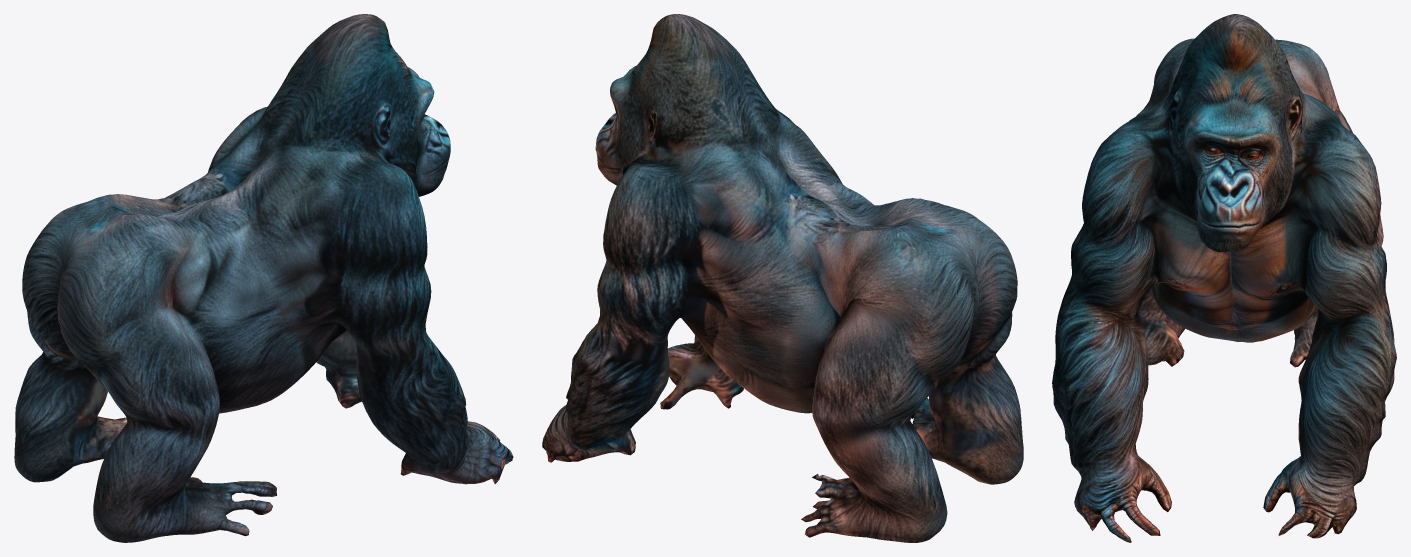
File: gorilla.obj
3 views of the same model, side by side, from view 1: azimuth 30°, elevation 25°; view 2: azimuth 150°, elevation 25°; view 3: azimuth 270°, elevation 25° (orthographic). The views are drawn at different scales.
Visible parts, largest first — view 1: Mesh_0; view 2: Mesh_0; view 3: Mesh_0.
Boxes of the visible parts, x1,y1,x2,y2 form: Mesh_0: (14, 14, 513, 542); Mesh_0: (542, 14, 1023, 542); Mesh_0: (1052, 14, 1396, 542).
Bounding box in the file's own units: 1.17 × 1.2 × 0.7878.
Materials: 1 (1 with a texture image).
